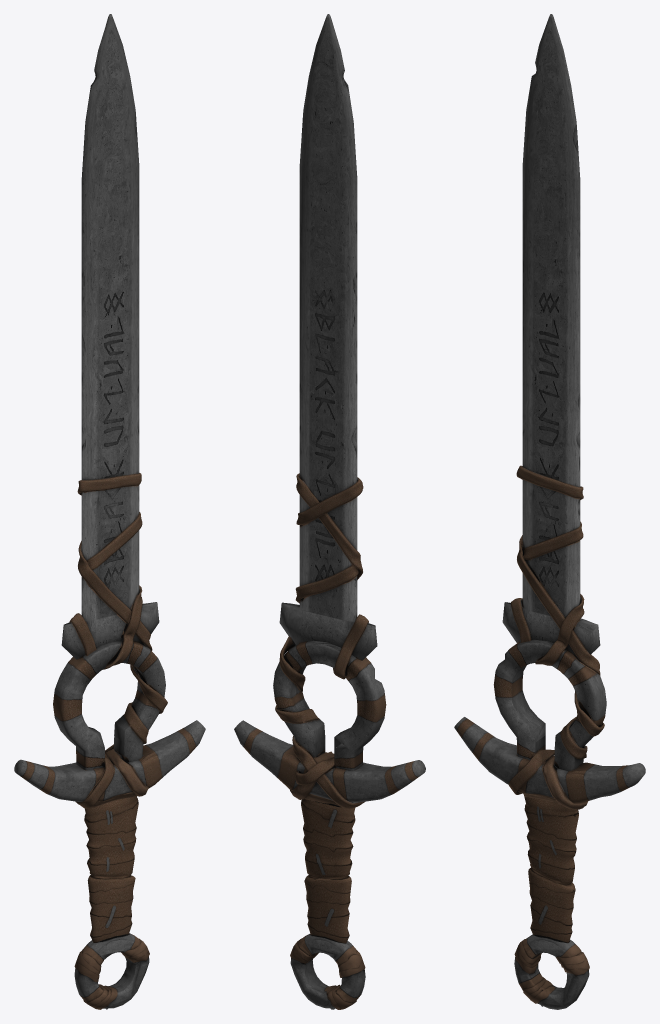
File: old_sword.fbx
3 renders of one model, left to right at view 1: azimuth 30°, elevation 25°; view 2: azimuth 150°, elevation 25°; view 3: azimuth 330°, elevation 25°, orthographic.
Parts seen in each view (by area): view 1: sword, handle; view 2: sword, handle; view 3: sword, handle.
Part boxes in pixels (<box>): sword: <box>14,14,205,808</box>; handle: <box>74,796,149,1009</box>; sword: <box>234,14,425,808</box>; handle: <box>290,799,365,1009</box>; sword: <box>454,14,645,809</box>; handle: <box>514,796,589,1009</box>.
Size of the model in its own units: 558 by 2805 by 126.
